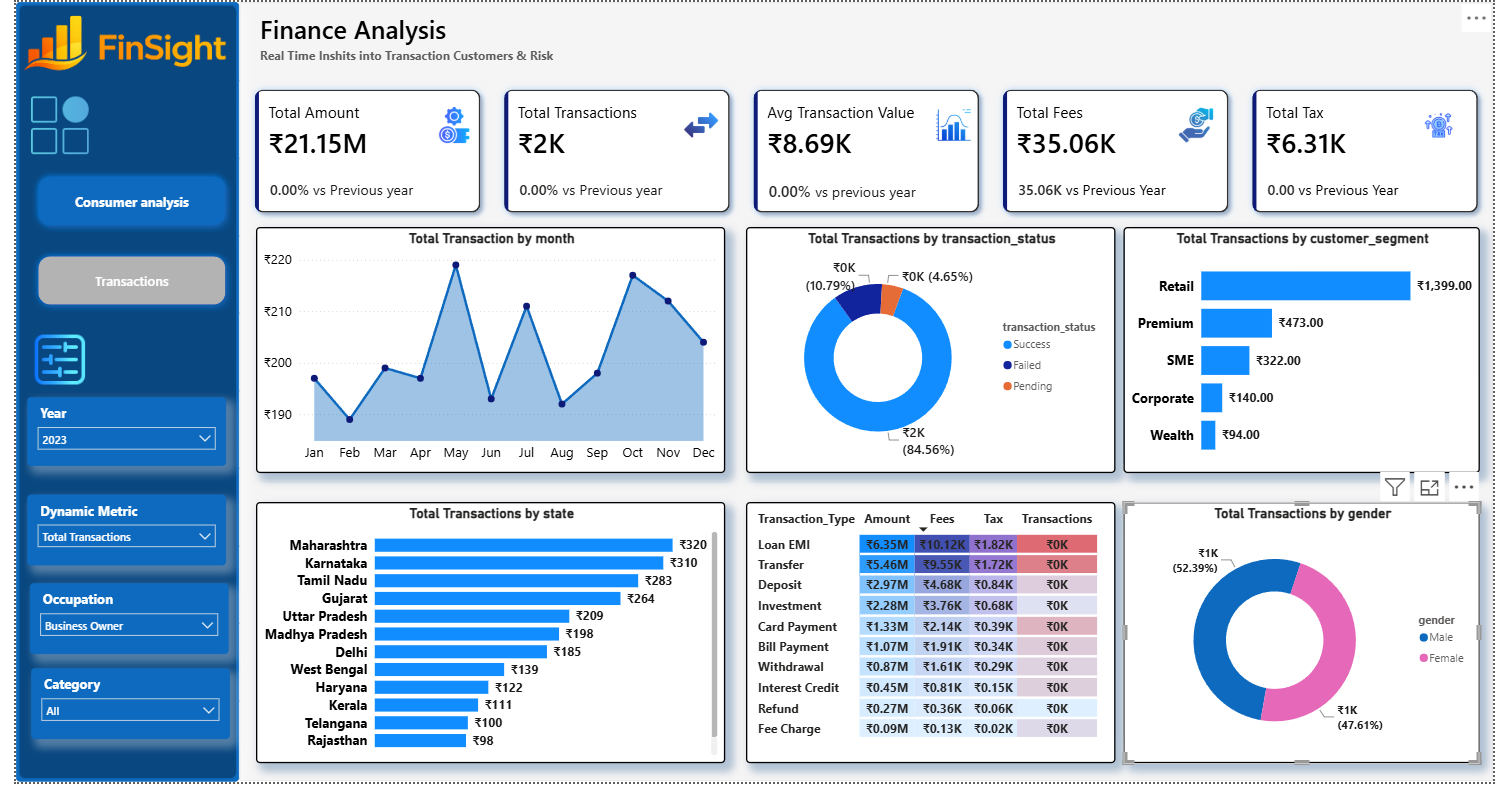

What the dashboard file says about the page in this screenshot:
{"tool":"powerbi","page":{"name":"Consumer analysis","canvas":[1800,950],"ordinal":0},"visuals":[{"type":"shape","box":[272,0,1528,950],"z":0},{"type":"shape","box":[0,0,272,950],"z":1000},{"type":"image","box":[0,0,272,102],"z":2000},{"type":"cardVisual","fields":{"Data":["finance_transactions.Dashboard Title"]},"box":[292,0,404,88],"z":3000},{"type":"slicer","fields":{"Values":["Calendar Table.Year"]},"box":[14,482,242,84],"z":4000},{"type":"cardVisual","fields":{"Data":["finance_transactions.Total Amount","finance_transactions.Total Transactions","finance_transactions.Avg Transaction Vaalue","finance_transactions.Total Fee","finance_transactions.Total Tax"]},"box":[272,88,1528,186],"z":5000},{"type":"image","box":[508,128,54,44],"z":6000},{"type":"image","box":[806,128,58,44],"z":7000},{"type":"image","box":[1120,128,46,44],"z":8000},{"type":"image","box":[1416,128,46,44],"z":9000},{"type":"image","box":[1714,128,40,44],"z":10000},{"type":"shape","box":[292,274,572,300],"z":11000},{"type":"areaChart","title":"Total Transaction by month","fields":{"Y":["finance_transactions.Total Transactions"],"Category":["Calendar Table.Month"]},"box":[292,274,572,300],"z":12000},{"type":"slicer","fields":{"Values":["customers.occupation"]},"box":[16,708,242,86],"z":13000},{"type":"shape","box":[1350,610,434,300],"z":14000},{"type":"donutChart","fields":{"Y":["finance_transactions.Total Transactions"],"Category":["finance_transactions.transaction_status"]},"box":[890,274,450,300],"z":15000},{"type":"shape","box":[1350,274,434,300],"z":16000},{"type":"barChart","fields":{"Y":["finance_transactions.Total Transactions"],"Category":["customers.customer_segment"]},"box":[1350,274,434,300],"z":17000},{"type":"shape","box":[292,610,572,300],"z":18000},{"type":"barChart","fields":{"Y":["finance_transactions.Total Transactions"],"Category":["customers.state"]},"box":[292,610,572,318],"z":19000},{"type":"shape","box":[890,610,450,300],"z":20000},{"type":"tableEx","fields":{"Values":["finance_transactions.transaction_type","finance_transactions.Total Amount","finance_transactions.Total Fees","finance_transactions.Total Tax","finance_transactions.Total Transactions"]},"box":[890,610,450,318],"z":21000},{"type":"donutChart","fields":{"Y":["finance_transactions.Total Transactions"],"Category":["customers.gender"]},"box":[1350,610,434,318],"z":22000},{"type":"image","box":[1496,734,72,88],"z":23000},{"type":"slicer","fields":{"Values":["Dynamic Metric.Dynamic Metric"]},"box":[14,600,242,86],"z":24000},{"type":"slicer","fields":{"Values":["finance_transactions.merchant_category"]},"box":[18,812,242,86],"z":25000},{"type":"pageNavigator","box":[18,204,246,174],"z":26000},{"type":"image","box":[18,394,70,82],"z":27000},{"type":"image","box":[18,114,70,72],"z":28000}]}

Visuals, with their boxes on the page's 1800x950 design canvas (x1, y1, x2, y2). These are canvas units, not pixel positions in the 1498x785 screenshot, which may show the page scaled, cropped or inside an application window:
shape: <box>272,0,1800,950</box>
shape: <box>0,0,272,950</box>
image: <box>0,0,272,102</box>
cardVisual - finance_transactions.Dashboard Title: <box>292,0,696,88</box>
slicer - Calendar Table.Year: <box>14,482,256,566</box>
cardVisual - finance_transactions.Total Amount x finance_transactions.Total Transactions: <box>272,88,1800,274</box>
image: <box>508,128,562,172</box>
image: <box>806,128,864,172</box>
image: <box>1120,128,1166,172</box>
image: <box>1416,128,1462,172</box>
image: <box>1714,128,1754,172</box>
shape: <box>292,274,864,574</box>
"Total Transaction by month" areaChart: <box>292,274,864,574</box>
slicer - customers.occupation: <box>16,708,258,794</box>
shape: <box>1350,610,1784,910</box>
donutChart - finance_transactions.Total Transactions x finance_transactions.transaction_status: <box>890,274,1340,574</box>
shape: <box>1350,274,1784,574</box>
barChart - finance_transactions.Total Transactions x customers.customer_segment: <box>1350,274,1784,574</box>
shape: <box>292,610,864,910</box>
barChart - finance_transactions.Total Transactions x customers.state: <box>292,610,864,928</box>
shape: <box>890,610,1340,910</box>
tableEx - finance_transactions.transaction_type x finance_transactions.Total Amount: <box>890,610,1340,928</box>
donutChart - finance_transactions.Total Transactions x customers.gender: <box>1350,610,1784,928</box>
image: <box>1496,734,1568,822</box>
slicer - Dynamic Metric.Dynamic Metric: <box>14,600,256,686</box>
slicer - finance_transactions.merchant_category: <box>18,812,260,898</box>
pageNavigator: <box>18,204,264,378</box>
image: <box>18,394,88,476</box>
image: <box>18,114,88,186</box>
